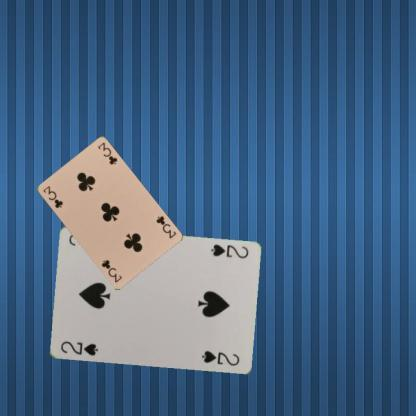2s: (58, 339, 100, 357), (208, 242, 250, 260)
3c: (153, 213, 177, 240), (40, 183, 64, 209)
